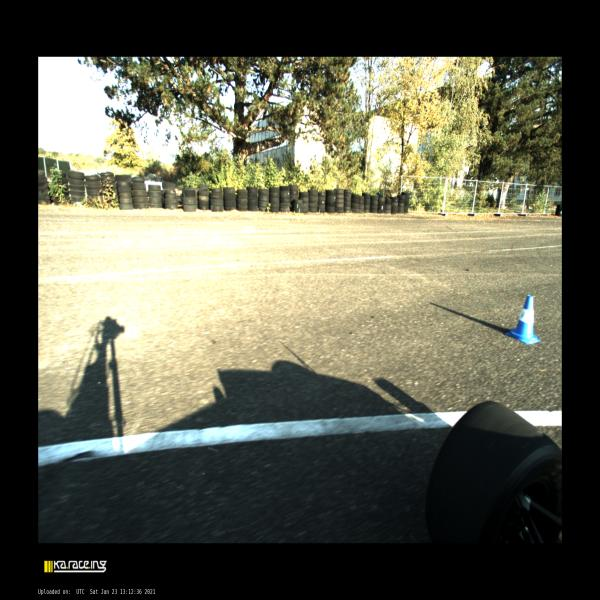blue_cone: (505, 295, 540, 344)
